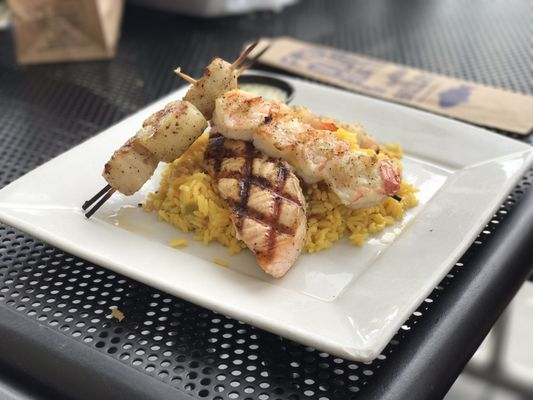burger: (82, 184, 116, 219)
sandwich: (224, 34, 533, 141)
